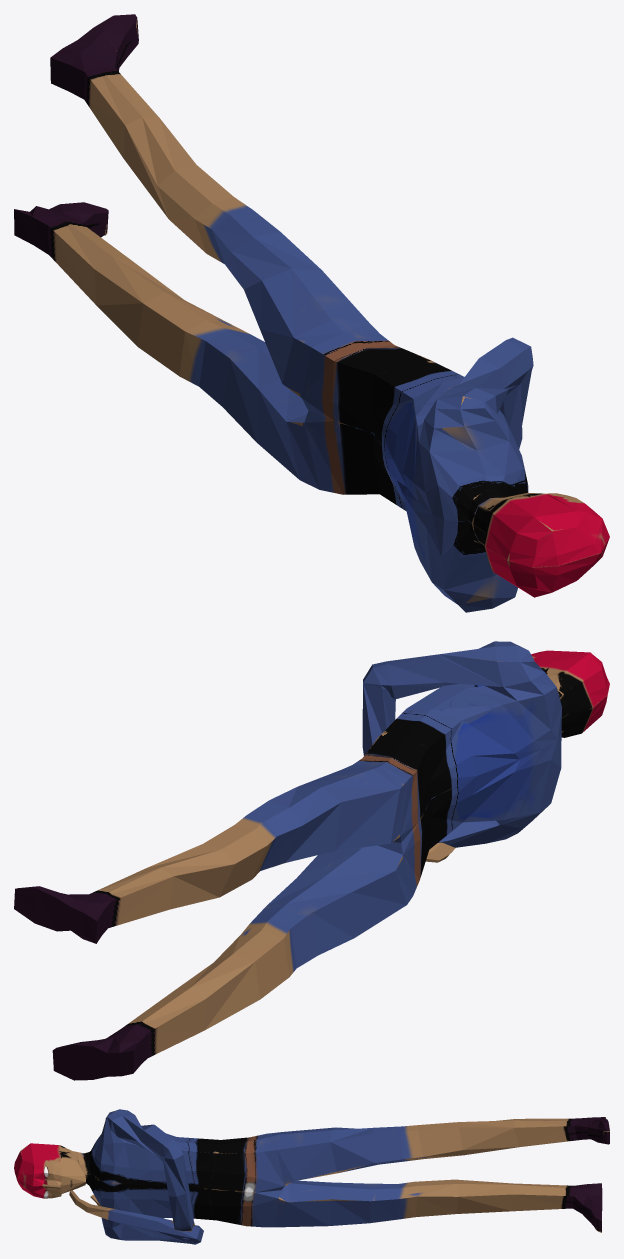
The model's file is mirrorman_000024.obj.
3 views of the same model, one above another, from view 1: azimuth 30°, elevation 25°; view 2: azimuth 150°, elevation 25°; view 3: azimuth 270°, elevation 25° (orthographic). The views are drawn at different scales.
Visible parts, largest first — view 1: mirrorman_Cube.001_Material.001; view 2: mirrorman_Cube.001_Material.001; view 3: mirrorman_Cube.001_Material.001.
Part boxes in pixels (box(x1,y1,x2,y2)): mirrorman_Cube.001_Material.001: box(14, 14, 609, 612); mirrorman_Cube.001_Material.001: box(14, 641, 609, 1080); mirrorman_Cube.001_Material.001: box(14, 1109, 609, 1244).
Bounding box in the file's own units: 0.3309 × 0.4792 × 1.91.
Materials: 1 (1 with a texture image).
